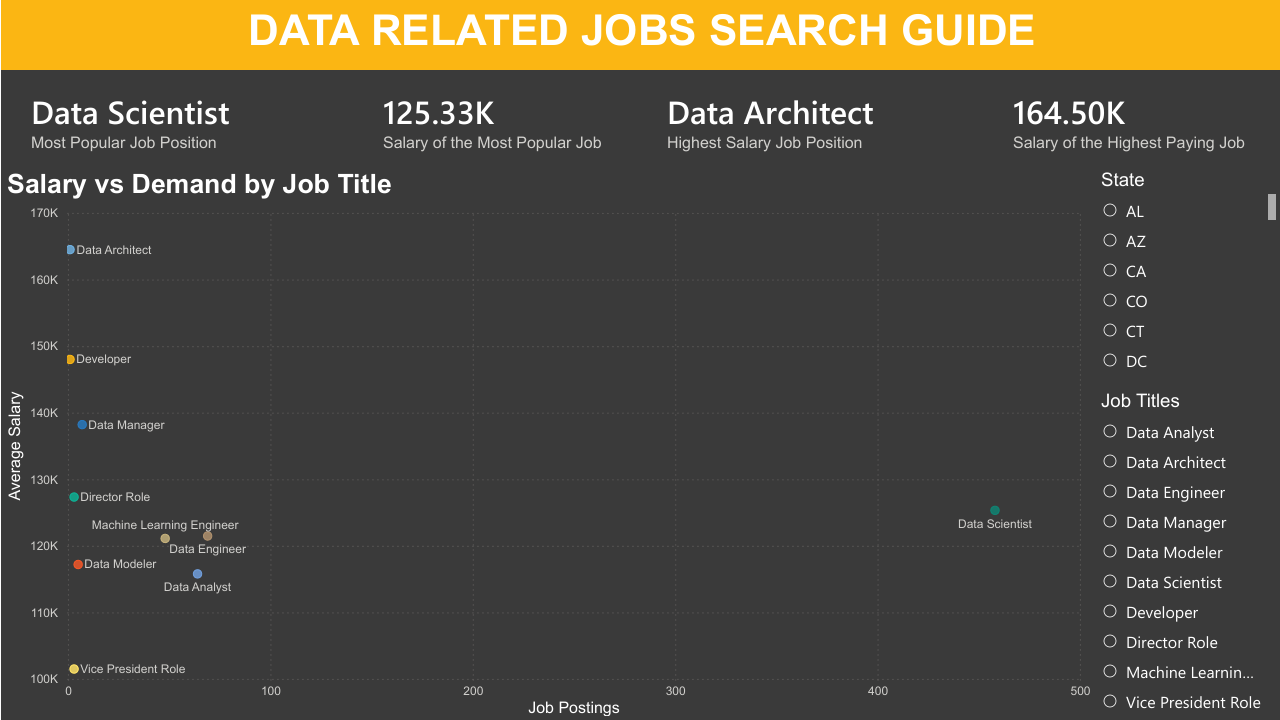

This screenshot's page, from the dashboard's own definition file:
{"tool":"powerbi","page":{"name":"Page 2","canvas":[1280,720],"ordinal":1},"visuals":[{"type":"scatterChart","title":"Salary vs Demand by Job Title","fields":{"X":["ds_jobs_cleaned.cleaned_job_title"],"Y":["Avg(ds_jobs_cleaned.average_salary)"],"Series":["ds_jobs_cleaned.cleaned_job_title1"]},"box":[0,168.3,1094.2,551.5],"z":0},{"type":"textbox","box":[0,0,1280,70],"z":1000},{"type":"cardVisual","fields":{"Data":["Min(ds_jobs_cleaned.cleaned_job_title)"]},"box":[0,70,352.1,98.2],"z":2000},{"type":"cardVisual","fields":{"Data":["Min(ds_jobs_cleaned.cleaned_job_title)"]},"box":[636.1,70,346.3,98.2],"z":3000},{"type":"cardVisual","fields":{"Data":["Avg(ds_jobs_cleaned.average_salary)"]},"box":[352.1,70,284,98.2],"z":4000},{"type":"cardVisual","fields":{"Data":["Avg(ds_jobs_cleaned.average_salary)"]},"box":[982.4,70,297.6,98.2],"z":5000},{"type":"listSlicer","title":"Job Titles","fields":{"Values":["ds_jobs_cleaned.cleaned_job_title"]},"box":[1094,389,186,331],"z":6000},{"type":"listSlicer","title":"State","fields":{"Values":["ds_jobs_cleaned.location_state"]},"box":[1094.2,168.3,185.8,209.1],"z":7000}]}

Visuals, with their boxes in screenshot pixels (x1, y1, x2, y2), scaled from the page's 1280x720 canvas onto the 1280x720 screenshot:
"Salary vs Demand by Job Title" scatterChart: bbox(0, 168, 1094, 719)
textbox: bbox(0, 0, 1279, 70)
cardVisual - Min(ds_jobs_cleaned.cleaned_job_title): bbox(0, 70, 352, 168)
cardVisual - Min(ds_jobs_cleaned.cleaned_job_title): bbox(636, 70, 982, 168)
cardVisual - Avg(ds_jobs_cleaned.average_salary): bbox(352, 70, 636, 168)
cardVisual - Avg(ds_jobs_cleaned.average_salary): bbox(982, 70, 1279, 168)
"Job Titles" listSlicer: bbox(1094, 389, 1279, 719)
"State" listSlicer: bbox(1094, 168, 1279, 377)
